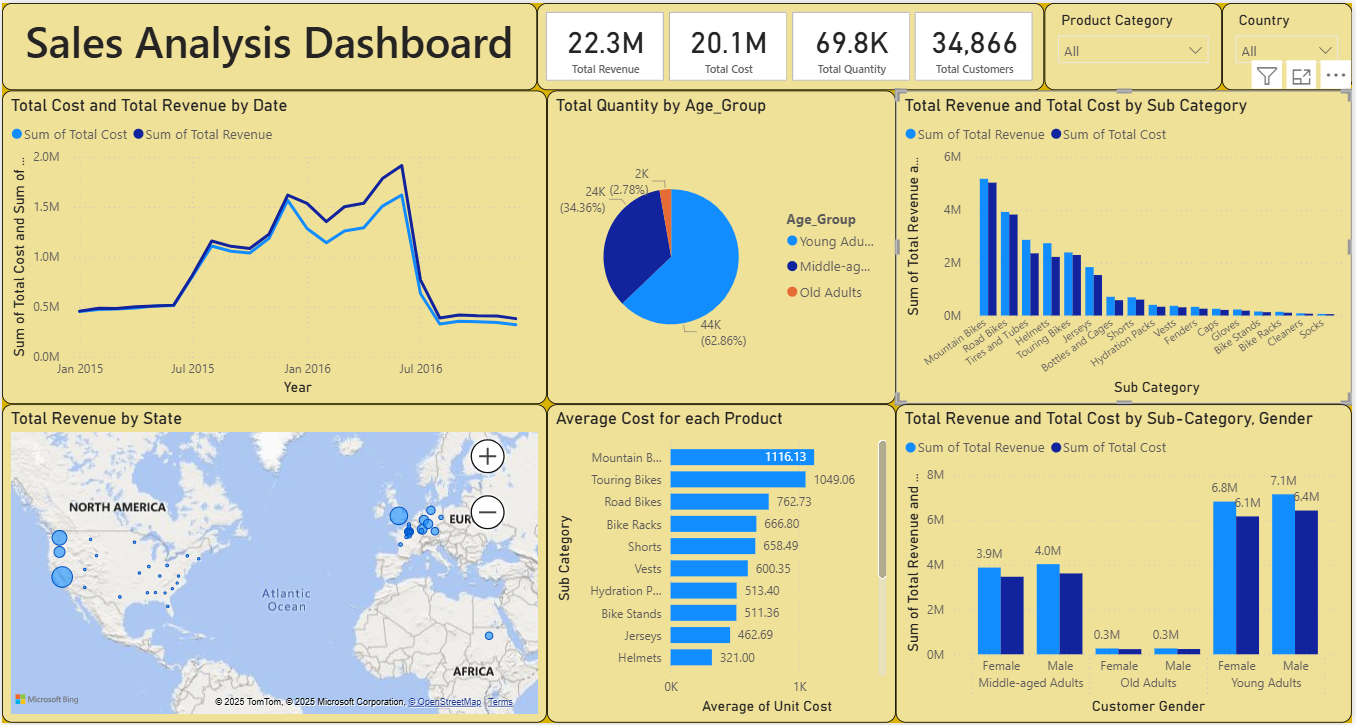

Layout of this report page (visuals, bound fields, positions):
{"tool":"powerbi","page":{"name":"Page 1","canvas":[1350,720],"ordinal":0},"visuals":[{"type":"lineChart","title":"Total Cost and Total Revenue by Date","fields":{"Category":["SalesForCourse-4fe2kehuN.Date.Variation.Date Hierarchy.Year","SalesForCourse-4fe2kehuN.Date.Variation.Date Hierarchy.Month"],"Y":["Sum(SalesForCourse-4fe2kehuN.Total Cost)","Sum(SalesForCourse-4fe2kehuN.Total Revenue)"]},"box":[0,87.5,545,313.8],"z":0},{"type":"clusteredBarChart","title":"Average Cost for each Product","fields":{"Category":["SalesForCourse-4fe2kehuN.Sub Category"],"Y":["Avg(SalesForCourse-4fe2kehuN.Unit Cost)"]},"box":[545,401.2,348.8,318.8],"z":1},{"type":"map","title":"Total Revenue by State","fields":{"Category":["SalesForCourse-4fe2kehuN.State"],"Size":["Sum(SalesForCourse-4fe2kehuN.Total Revenue)"]},"box":[0,401.2,545,318.8],"z":2},{"type":"slicer","fields":{"Values":["SalesForCourse-4fe2kehuN.Country"]},"box":[1220,0,130,87.5],"z":3},{"type":"slicer","fields":{"Values":["SalesForCourse-4fe2kehuN.Product Category"]},"box":[1042.5,0,177.5,87.5],"z":4},{"type":"pieChart","title":"Total Quantity by Age_Group","fields":{"Category":["SalesForCourse-4fe2kehuN.Age_Group"],"Y":["Sum(SalesForCourse-4fe2kehuN.Quantity)"]},"box":[545,87.5,348.8,313.8],"z":5},{"type":"textbox","box":[0,0,535,87.5],"z":6},{"type":"cardVisual","fields":{"Data":["Sum(SalesForCourse-4fe2kehuN.Total Revenue)","Sum(SalesForCourse-4fe2kehuN.Total Cost)","Sum(SalesForCourse-4fe2kehuN.Quantity)","CountNonNull(SalesForCourse-4fe2kehuN.index)"]},"box":[535,0,507.5,87.5],"z":7},{"type":"clusteredColumnChart","title":"Total Revenue and Total Cost by Sub Category","fields":{"Category":["SalesForCourse-4fe2kehuN.Sub Category"],"Y":["Sum(SalesForCourse-4fe2kehuN.Total Revenue)","Sum(SalesForCourse-4fe2kehuN.Total Cost)"]},"box":[893.8,87.5,456.2,313.8],"z":8},{"type":"clusteredColumnChart","title":"Total Revenue and Total Cost by Sub-Category, Gender","fields":{"Y":["Sum(SalesForCourse-4fe2kehuN.Total Revenue)","Sum(SalesForCourse-4fe2kehuN.Total Cost)"],"Category":["SalesForCourse-4fe2kehuN.Age_Group","SalesForCourse-4fe2kehuN.Customer Gender"]},"box":[893.8,401.2,456.2,318.8],"z":9}]}

Visuals, with their boxes in screenshot pixels (x1, y1, x2, y2), scaled from the page's 1350x720 canvas onto the 1356x725 screenshot:
"Total Cost and Total Revenue by Date" lineChart: locate(0, 88, 547, 404)
"Average Cost for each Product" clusteredBarChart: locate(547, 404, 898, 724)
"Total Revenue by State" map: locate(0, 404, 547, 724)
slicer - SalesForCourse-4fe2kehuN.Country: locate(1225, 0, 1355, 88)
slicer - SalesForCourse-4fe2kehuN.Product Category: locate(1047, 0, 1225, 88)
"Total Quantity by Age_Group" pieChart: locate(547, 88, 898, 404)
textbox: locate(0, 0, 537, 88)
cardVisual - Sum(SalesForCourse-4fe2kehuN.Total Revenue) x Sum(SalesForCourse-4fe2kehuN.Total Cost): locate(537, 0, 1047, 88)
"Total Revenue and Total Cost by Sub Category" clusteredColumnChart: locate(898, 88, 1355, 404)
"Total Revenue and Total Cost by Sub-Category, Gender" clusteredColumnChart: locate(898, 404, 1355, 724)
